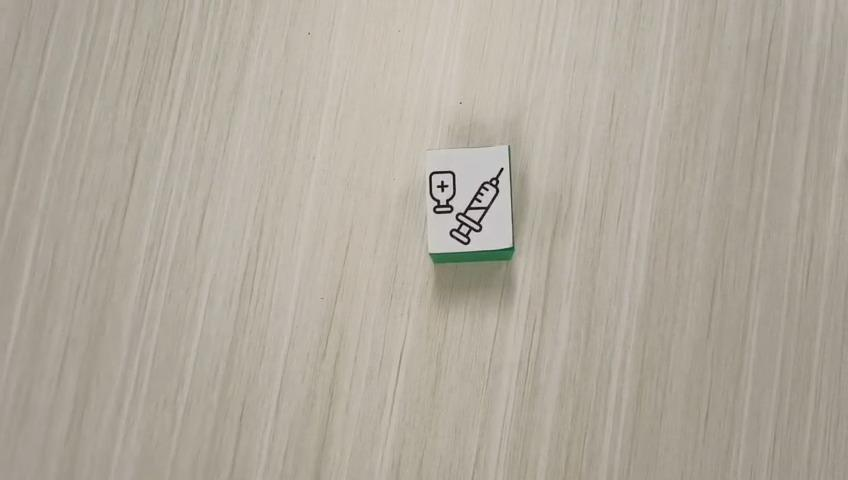antiseptic cream: (423, 143, 515, 264)
